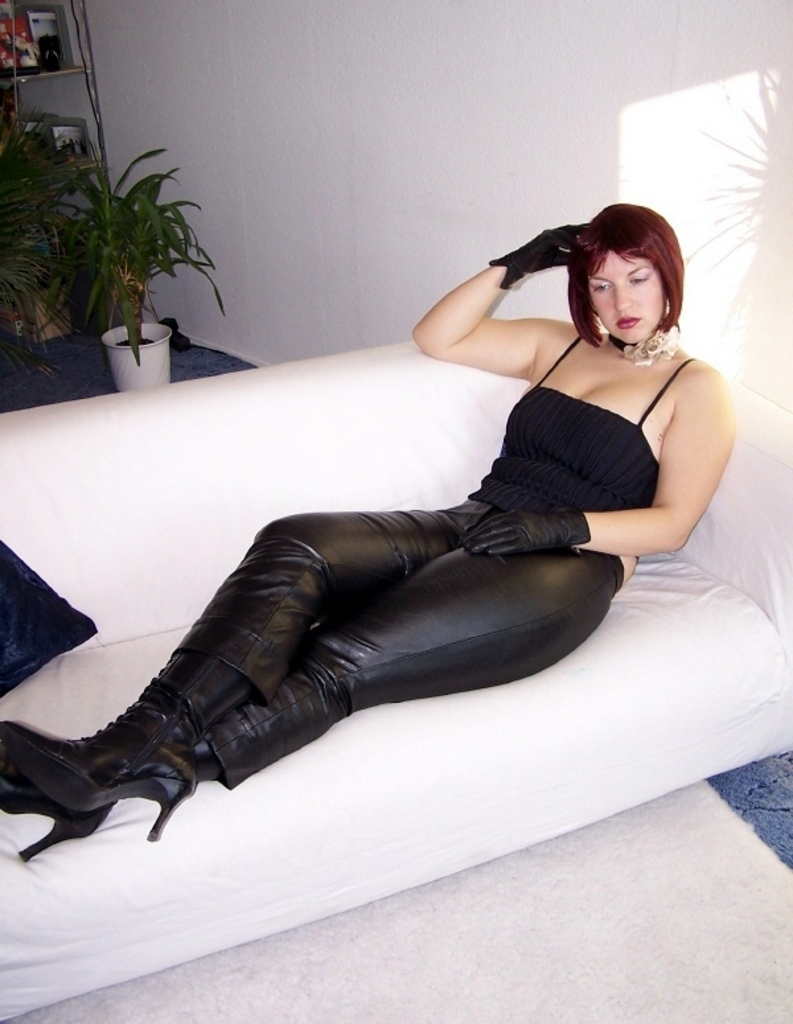Couch: (0, 280, 761, 929)
